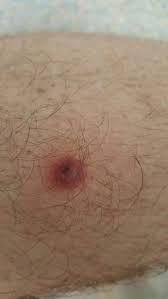Tick: (39, 147, 93, 196)
